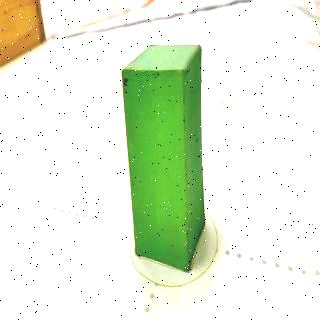greenbox: (122, 42, 205, 272)
